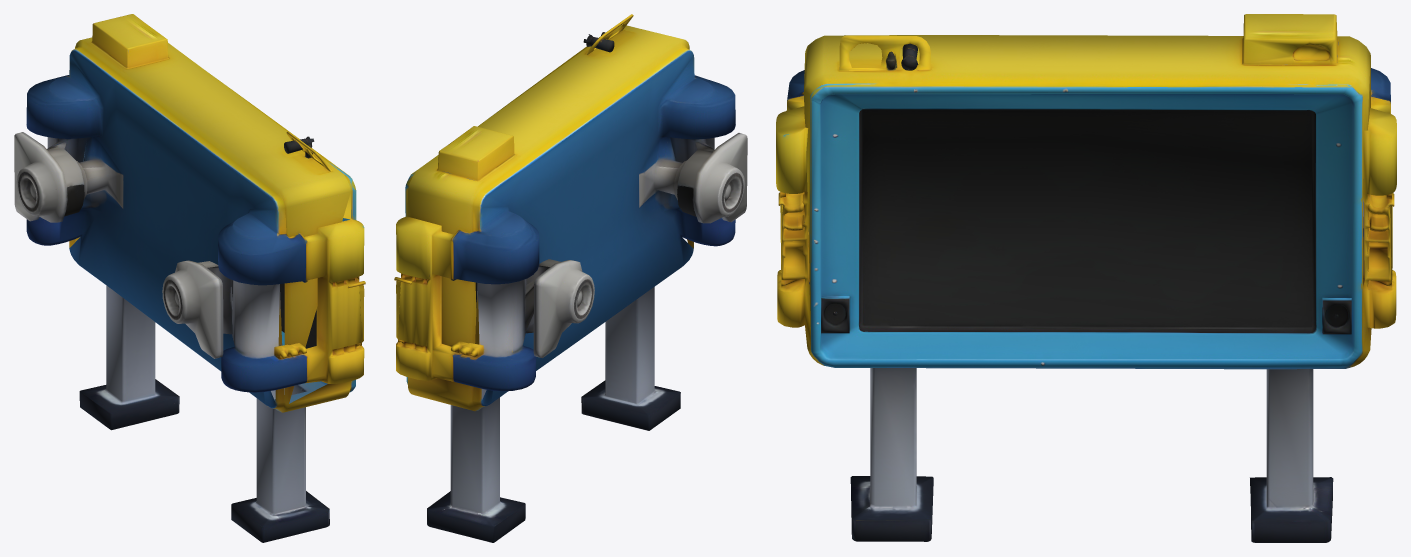
3 renders of one model, left to right at view 1: azimuth 30°, elevation 25°; view 2: azimuth 150°, elevation 25°; view 3: azimuth 270°, elevation 25°, orthographic. The views are drawn at different scales.
Visible parts, largest first — view 1: tripo_node_cfc4f4b4-bf71-42f6-a585-113ceda69d65; view 2: tripo_node_cfc4f4b4-bf71-42f6-a585-113ceda69d65; view 3: tripo_node_cfc4f4b4-bf71-42f6-a585-113ceda69d65.
Boxes of the visible parts, x1,y1,x2,y2 form: tripo_node_cfc4f4b4-bf71-42f6-a585-113ceda69d65: (14, 14, 365, 542); tripo_node_cfc4f4b4-bf71-42f6-a585-113ceda69d65: (394, 14, 747, 542); tripo_node_cfc4f4b4-bf71-42f6-a585-113ceda69d65: (776, 14, 1396, 542).
Bounding box in the file's own units: 0.3667 × 0.8804 × 0.9995.
1 material, 1 textured.
